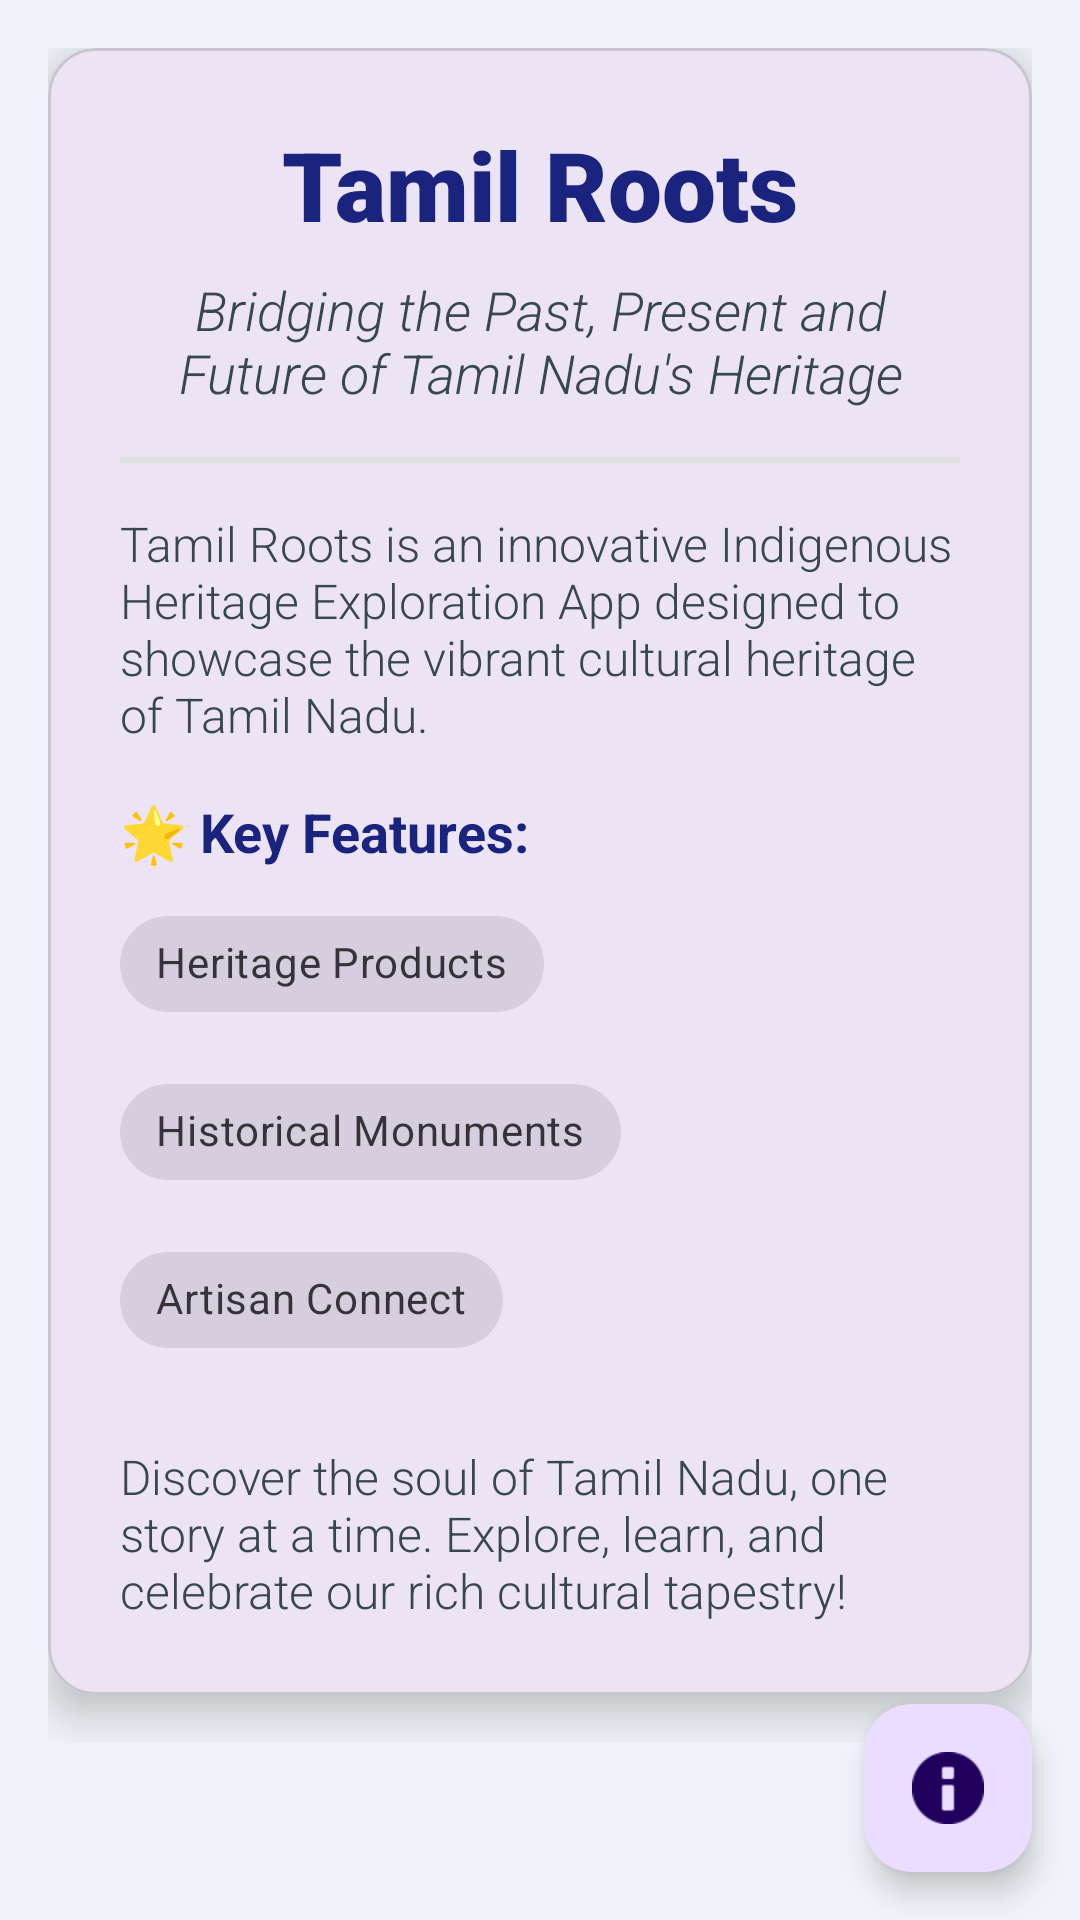

Icon click points for this 1080px x 1920px phone screenshot, format [x,y]:
info: [948,1788]
